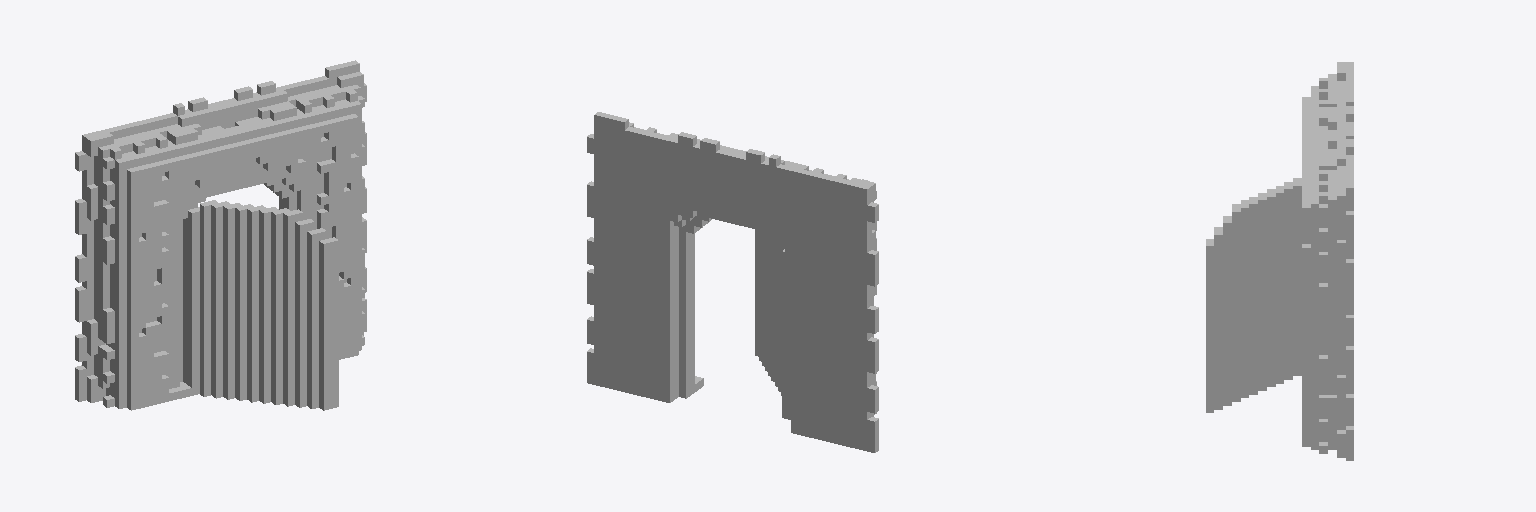
The model's file is Door 3.obj.
The picture shows the model from 3 angles: view 1: azimuth 30°, elevation 25°; view 2: azimuth 150°, elevation 25°; view 3: azimuth 270°, elevation 25°; orthographic projection.
Bounding box in the file's own units: 38 × 34 × 17.